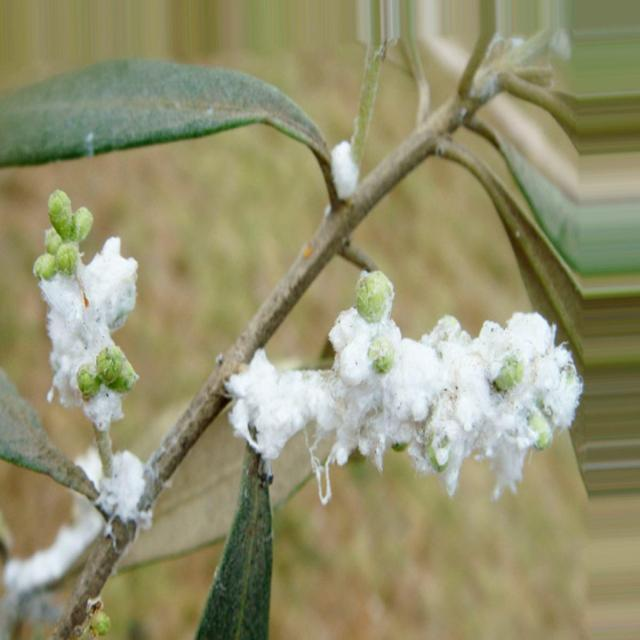Psyllid: (226, 267, 584, 504), (33, 190, 139, 449), (94, 451, 153, 548), (331, 124, 367, 201)
